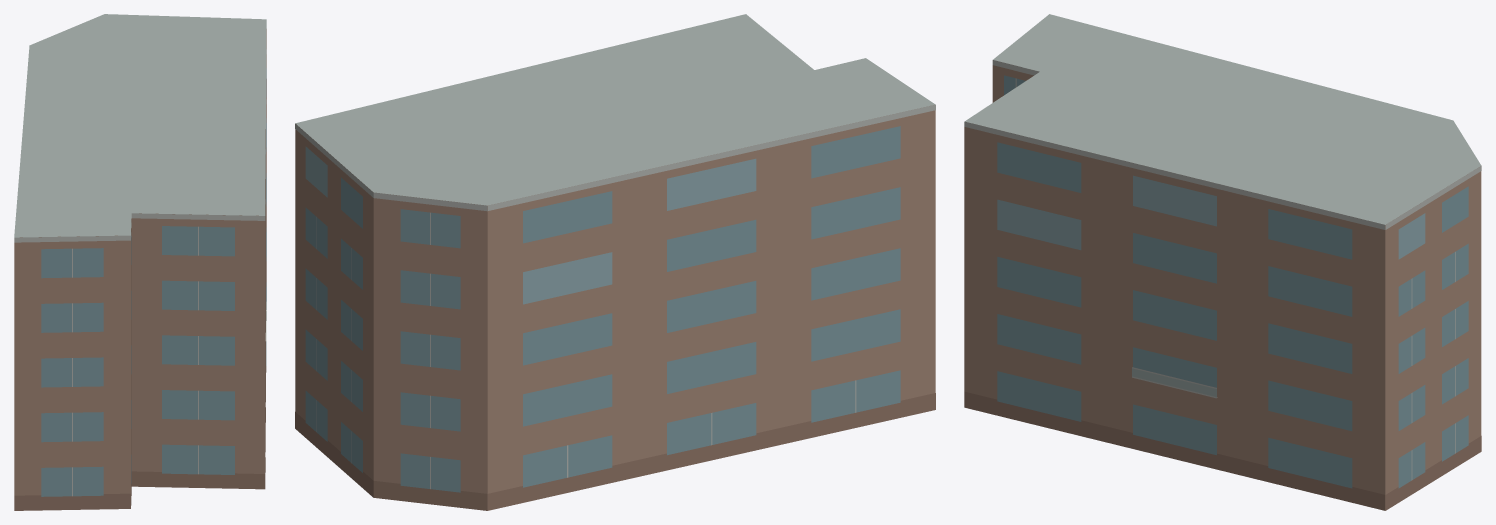
File: survey-upis-32677631.glb
3 renders of one model, left to right at view 1: azimuth 30°, elevation 25°; view 2: azimuth 150°, elevation 25°; view 3: azimuth 270°, elevation 25°, orthographic. The views are drawn at different scales.
Parts seen in each view (by area): view 1: survey-upis-32677631.tmp; view 2: survey-upis-32677631.tmp; view 3: survey-upis-32677631.tmp.
Boxes of the visible parts, <box> form: survey-upis-32677631.tmp: <box>14,14,266,510</box>; survey-upis-32677631.tmp: <box>295,14,935,510</box>; survey-upis-32677631.tmp: <box>964,14,1481,510</box>.
Bounding box in the file's own units: 20.88 × 13.2 × 21.63.
